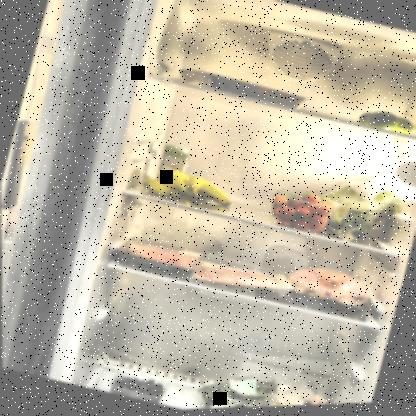banana: (136, 159, 238, 219)
blueberries: (108, 366, 169, 407)
chicken: (277, 256, 382, 327)
green_beans: (191, 357, 282, 410)
ground_beef: (122, 233, 202, 283)
heavy_cream: (155, 142, 191, 188)
lime: (354, 105, 416, 143)
mushrooms: (260, 381, 338, 407)
spinach: (308, 166, 412, 259)
strawberries: (263, 183, 338, 241)
